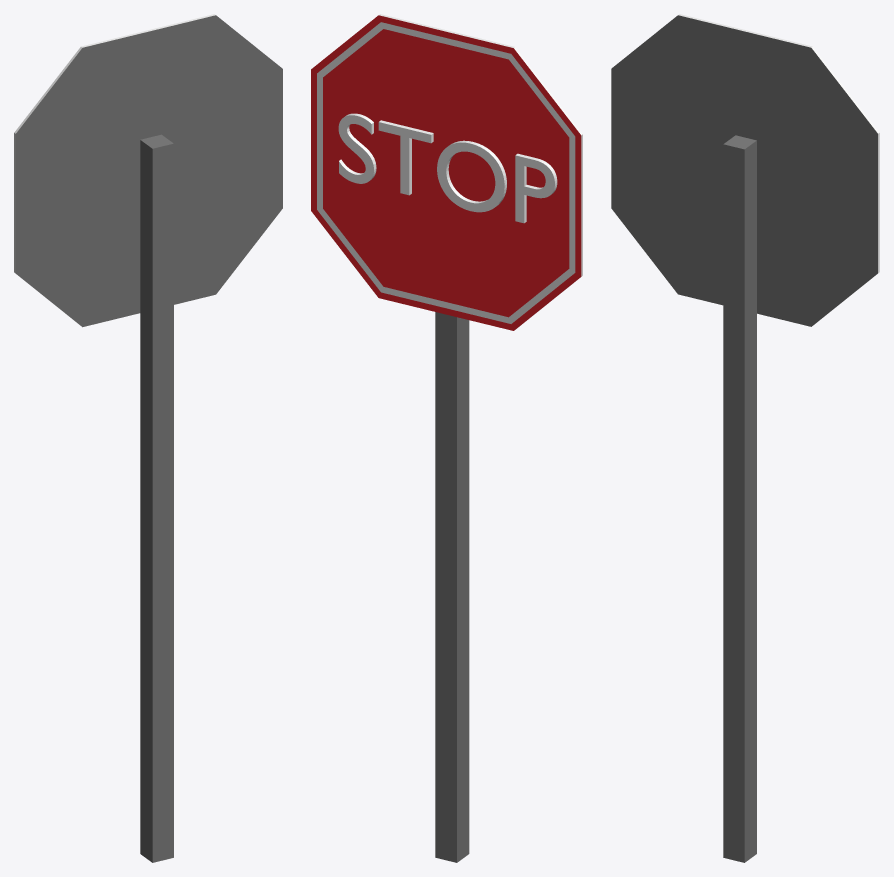
File: stopsign.fbx
3 renders of one model, left to right at view 1: azimuth 30°, elevation 25°; view 2: azimuth 150°, elevation 25°; view 3: azimuth 330°, elevation 25°, orthographic.
Visible parts, largest first — view 1: stop sign; view 2: stop sign; view 3: stop sign.
Part boxes in pixels (bbox=[...]): stop sign: bbox=[14, 14, 282, 862]; stop sign: bbox=[311, 14, 582, 862]; stop sign: bbox=[611, 14, 879, 862].
Bounding box in the file's own units: 233 × 684 × 26.24.
